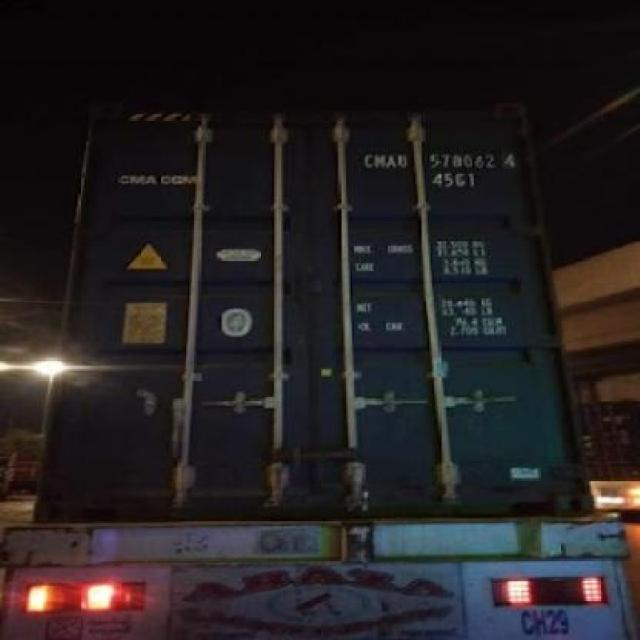ISO: (429, 168, 476, 190)
container_number: (354, 146, 524, 174)
